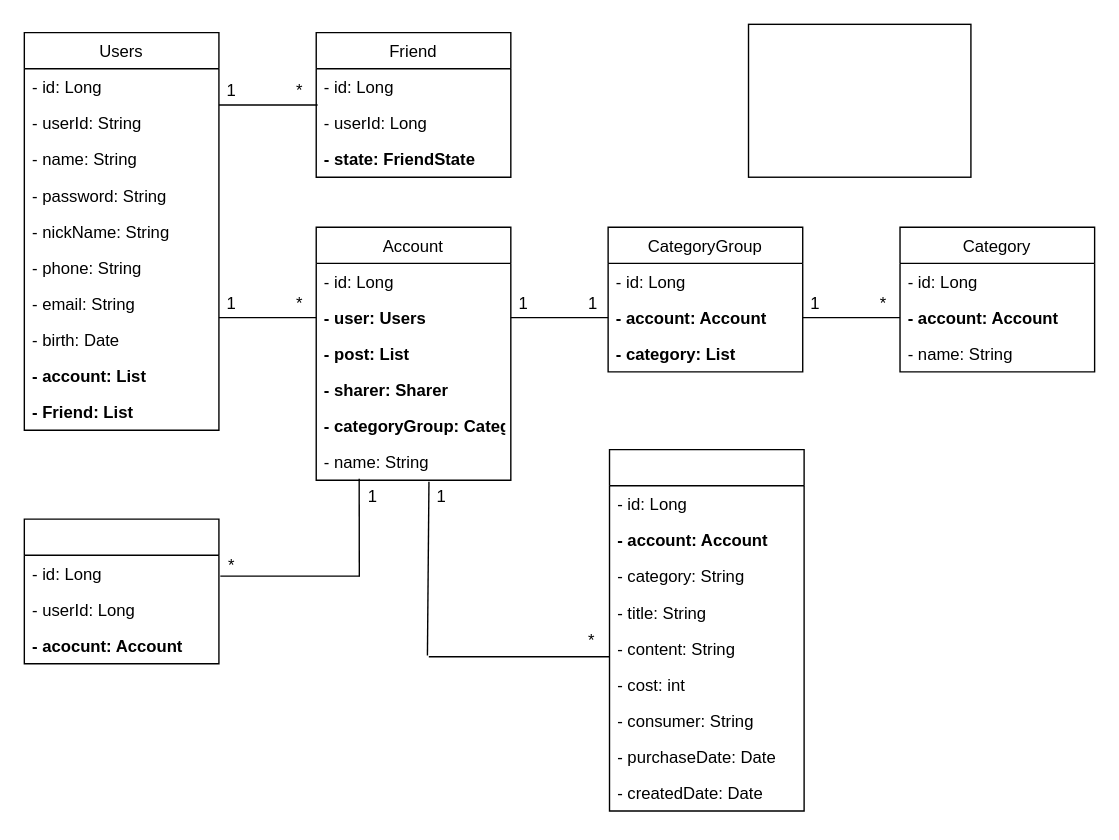
Some shapes in this 1119 by 840 pixel diagram are drawn without their labels. Here are the shapes that lost their labels. From the top down, the box of each, then its label:
(747, 23, 971, 177): <<enumeration>> FriendState FOLLOWUP LETFOLLOW FOLLOW UNFOLLOW
(23, 518, 219, 664): Sharer
(608, 448, 804, 811): Post
